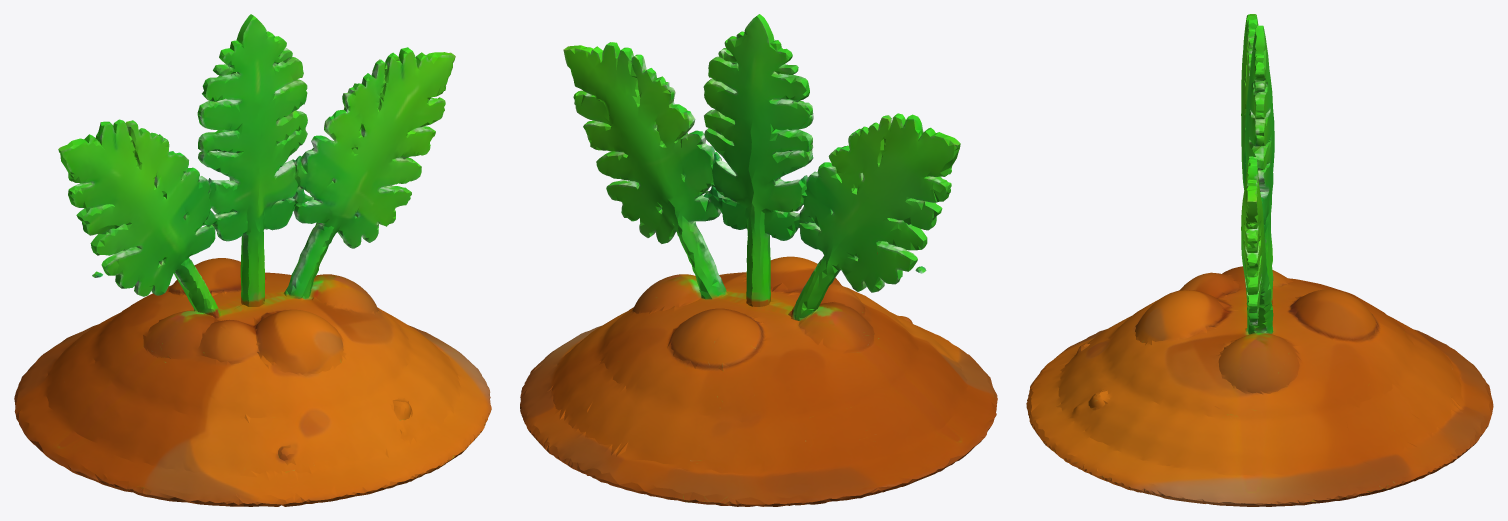
File: crop_carrot.glb
3 renders of one model, left to right at view 1: azimuth 30°, elevation 25°; view 2: azimuth 150°, elevation 25°; view 3: azimuth 270°, elevation 25°, orthographic. The views are drawn at different scales.
Visible parts, largest first — view 1: crop_carrot; view 2: crop_carrot; view 3: crop_carrot.
Boxes of the visible parts, <box> form: crop_carrot: <box>14,14,491,506</box>; crop_carrot: <box>520,14,997,506</box>; crop_carrot: <box>1026,14,1493,506</box>.
Size of the model in its own units: 1 by 0.9104 by 0.9977.
Materials: 1 (1 with a texture image).
